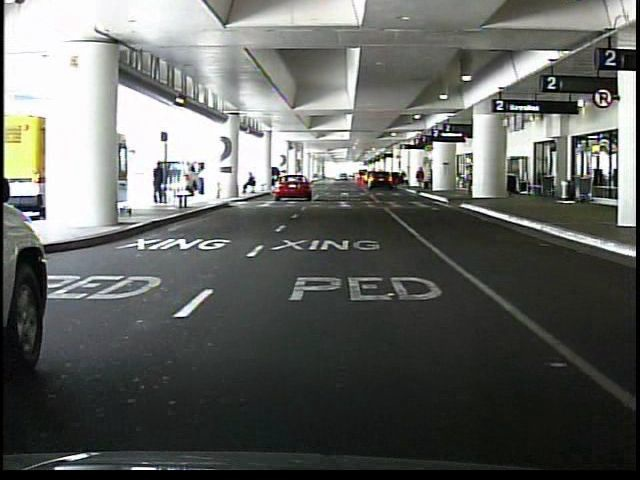person: (153, 163, 168, 206), (463, 162, 475, 200), (240, 172, 257, 195), (417, 166, 427, 192)
